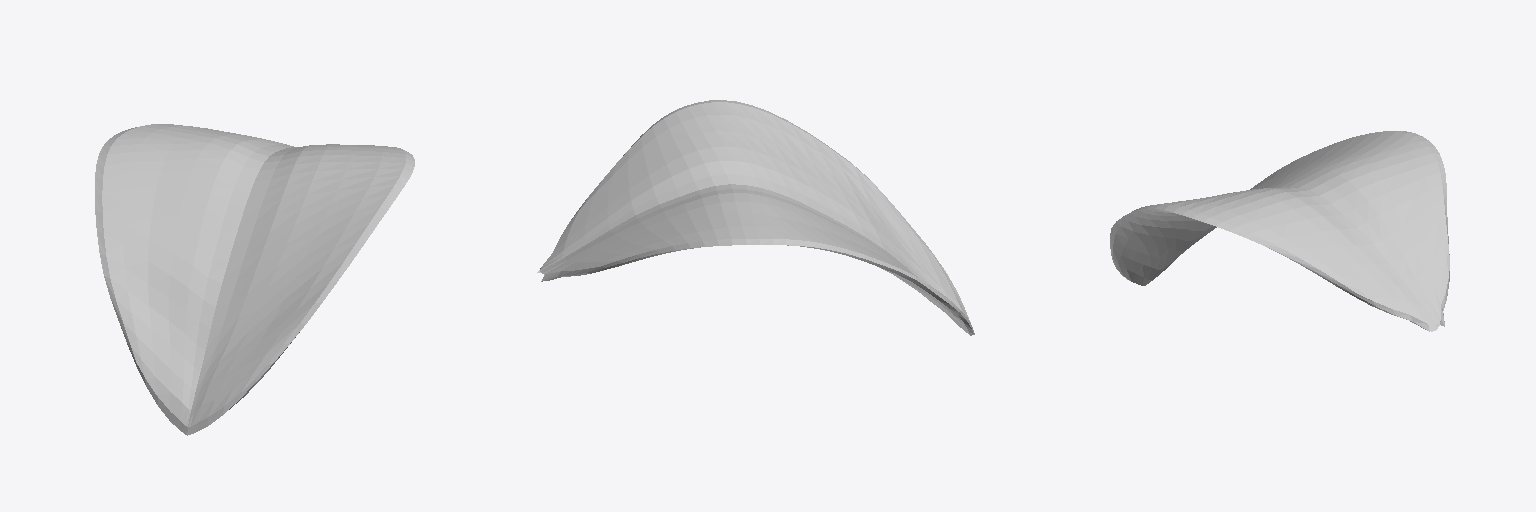
3 renders of one model, left to right at view 1: azimuth 30°, elevation 25°; view 2: azimuth 150°, elevation 25°; view 3: azimuth 270°, elevation 25°, orthographic.
Parts seen in each view (by area): view 1: stem__0; view 2: stem__0; view 3: stem__0.
Part boxes in pixels (bbox=[...]): stem__0: bbox=[95, 124, 414, 435]; stem__0: bbox=[537, 100, 974, 335]; stem__0: bbox=[1110, 131, 1449, 331].
Size of the model in its own units: 0.9238 by 0.541 by 0.872.